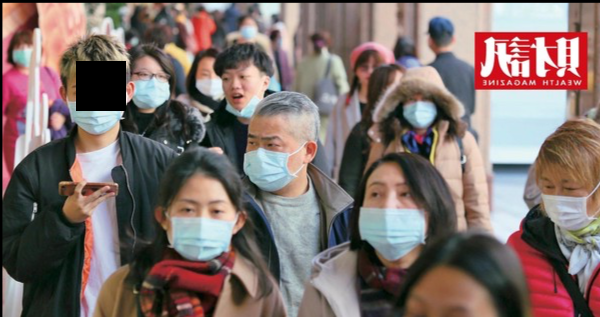mask_weared_incorrect: (222, 68, 262, 113)
with_mask: (358, 177, 427, 262), (165, 194, 235, 261), (242, 129, 299, 193), (66, 80, 125, 135), (542, 172, 593, 231), (131, 63, 169, 107), (400, 92, 437, 126), (194, 65, 223, 100), (10, 39, 33, 69)
without_mask: (354, 59, 381, 83)
